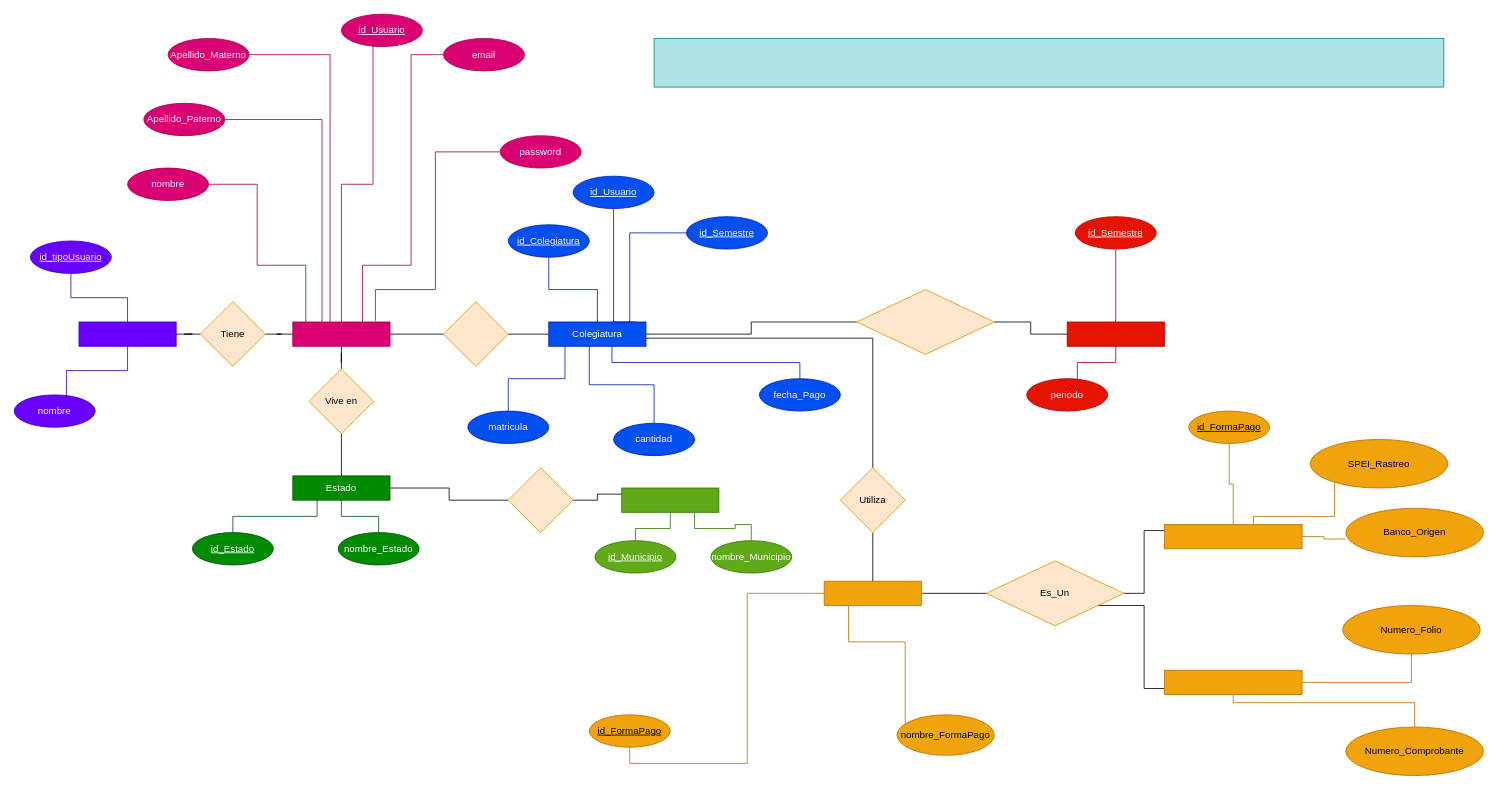
The diagram is 1498 pixels wide and 790 high, and some of its shapes have lost their labels. The shapes that lost their labels are listed below. From the top down, each one's centre as x and y in pixels, then its label:
At (x=1048, y=62): "Diagrama Entidad-Relación: Sistema de Gestión de Colegiaturas y Pagos".
At (x=127, y=333): "Tipo_Usuario".
At (x=341, y=333): "Usuario".
At (x=475, y=334): "Paga".
At (x=925, y=321): "Corresponde a".
At (x=1115, y=333): "Semestre".
At (x=540, y=500): "Del".
At (x=670, y=499): "Municipio".
At (x=1233, y=536): "Transferencia_Electronica".
At (x=872, y=592): "Forma_Pago".
At (x=1233, y=682): "Deposito_Efectivo".
